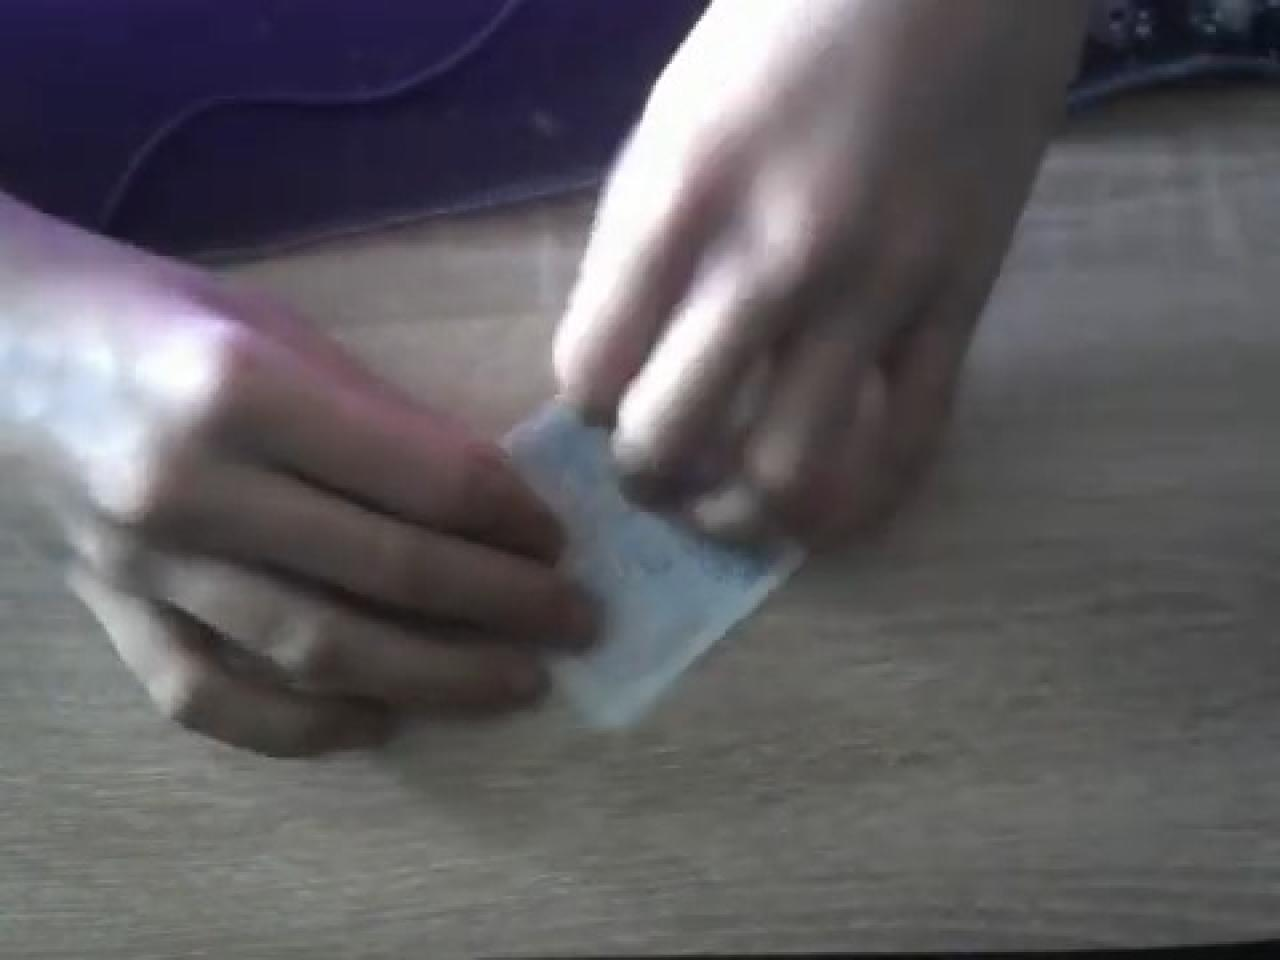20leva: (499, 400, 805, 733)
